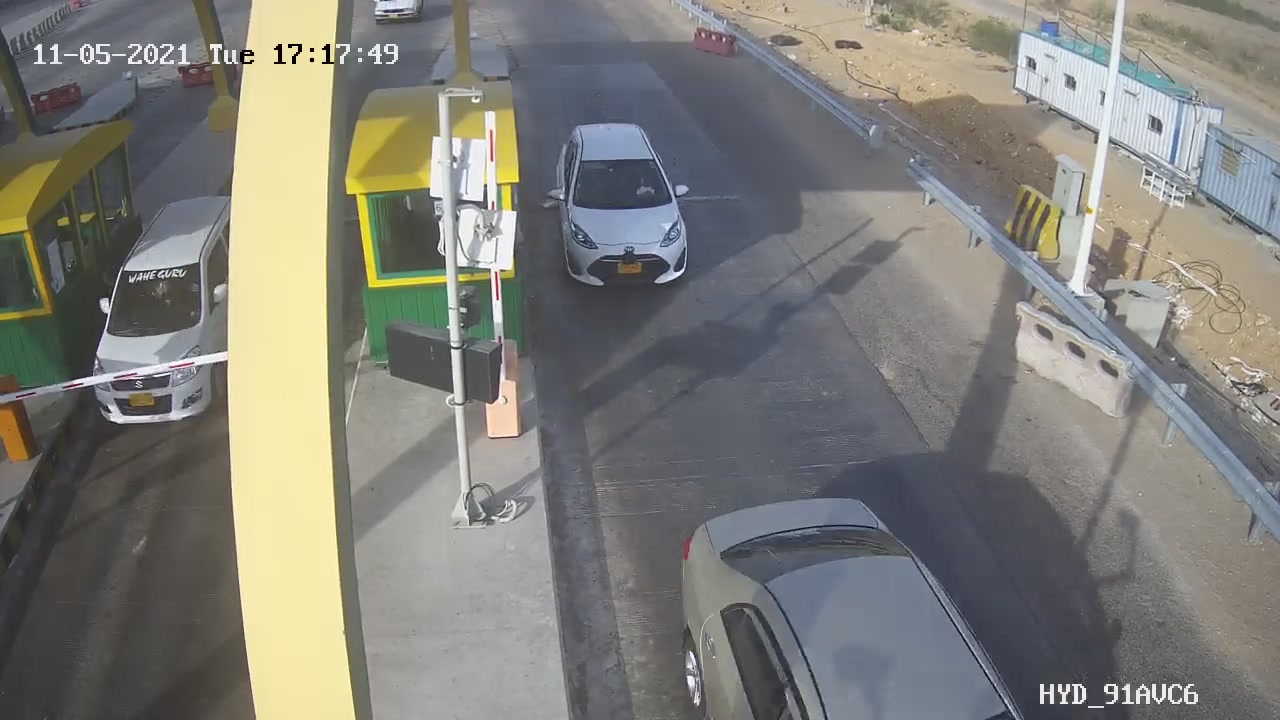F1: (530, 108, 711, 308)
